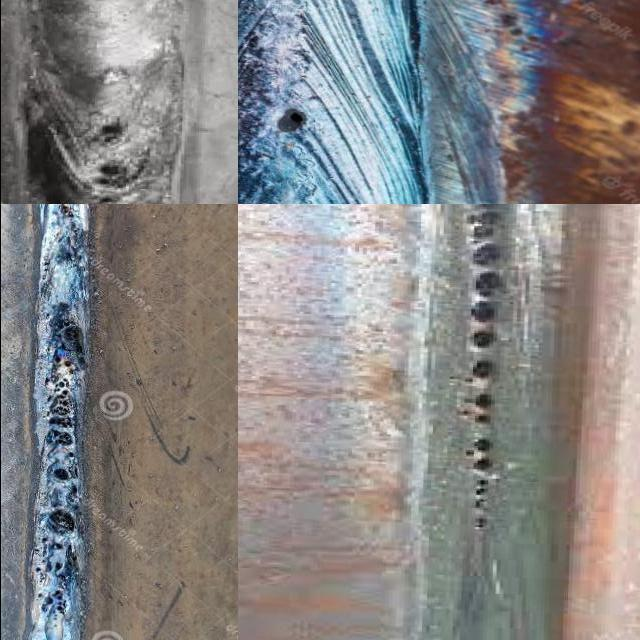defect: (461, 204, 516, 426), (39, 315, 89, 495), (31, 534, 83, 633), (460, 432, 496, 536), (88, 156, 133, 204), (88, 113, 136, 151), (269, 101, 311, 139), (45, 505, 77, 536), (55, 204, 80, 220)
